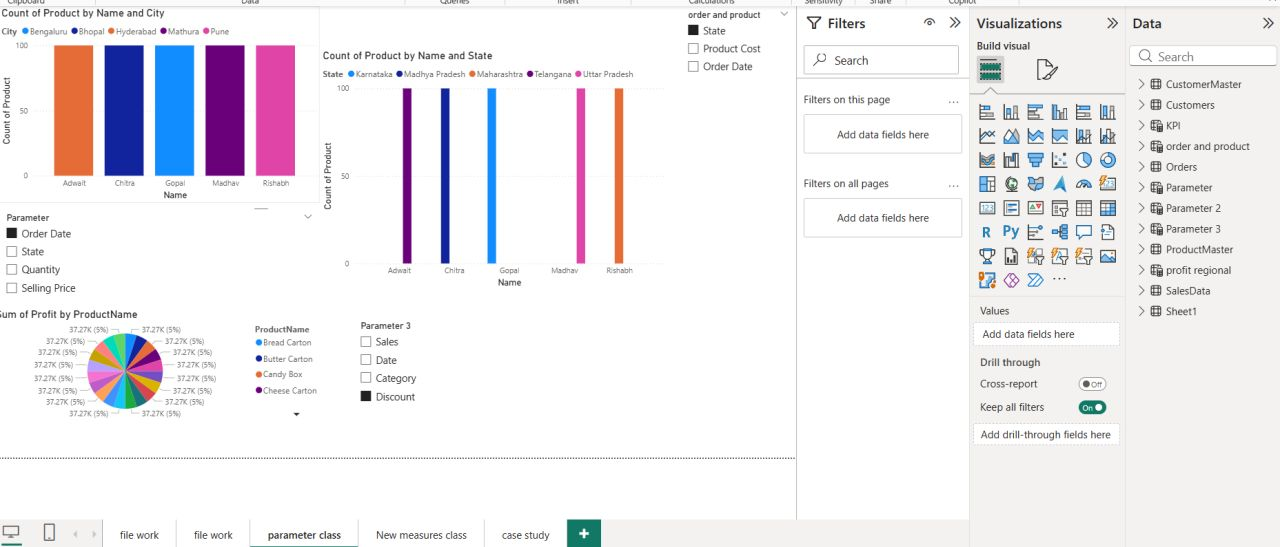

Layout of this report page (visuals, bound fields, positions):
{"tool":"powerbi","page":{"name":"parameter class","canvas":[1280,720],"ordinal":2},"visuals":[{"type":"columnChart","fields":{"Category":["Customers.Name"],"Y":["CountNonNull(Orders.Product)"],"Series":["Customers.City"]},"box":[9.6,0,511.8,314.2],"z":0},{"type":"slicer","fields":{"Values":["Parameter.Parameter"]},"box":[10,324,512,314],"z":1000},{"type":"clusteredColumnChart","fields":{"Series":["Customers.State"],"Category":["Customers.Name"],"Y":["CountNonNull(Orders.Product)"]},"box":[521.4,68.6,553,385.6],"z":2000},{"type":"slicer","fields":{"Values":["order  and product.order  and product"]},"box":[1095,0,185,386],"z":3000},{"type":"pieChart","fields":{"Y":["Sum(SalesData.Profit)"],"Category":["ProductMaster.ProductName"]},"box":[0,481.6,553,182.5],"z":4000},{"type":"slicer","fields":{"Values":["Parameter 3.Parameter 3"]},"box":[573.6,496.7,189.4,181.1],"z":5000}]}

Visuals, with their boxes on the page's 1280x720 design canvas (x1, y1, x2, y2). These are canvas units, not pixel positions in the 1280x547 screenshot, which may show the page scaled, cropped or inside an application window:
columnChart - Customers.Name x CountNonNull(Orders.Product): crop(10, 0, 521, 314)
slicer - Parameter.Parameter: crop(10, 324, 522, 638)
clusteredColumnChart - Customers.State x Customers.Name: crop(521, 69, 1074, 454)
slicer - order  and product.order  and product: crop(1095, 0, 1280, 386)
pieChart - Sum(SalesData.Profit) x ProductMaster.ProductName: crop(0, 482, 553, 664)
slicer - Parameter 3.Parameter 3: crop(574, 497, 763, 678)
